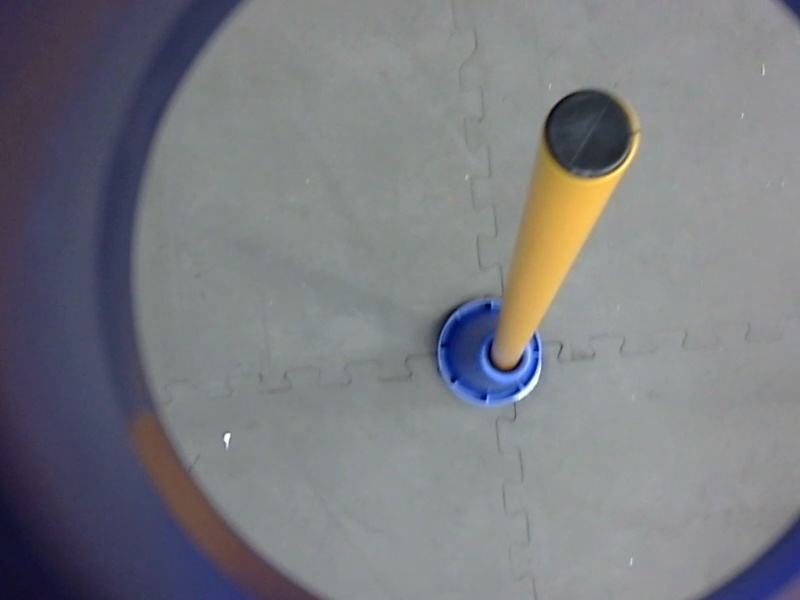tip: (534, 82, 649, 187)
